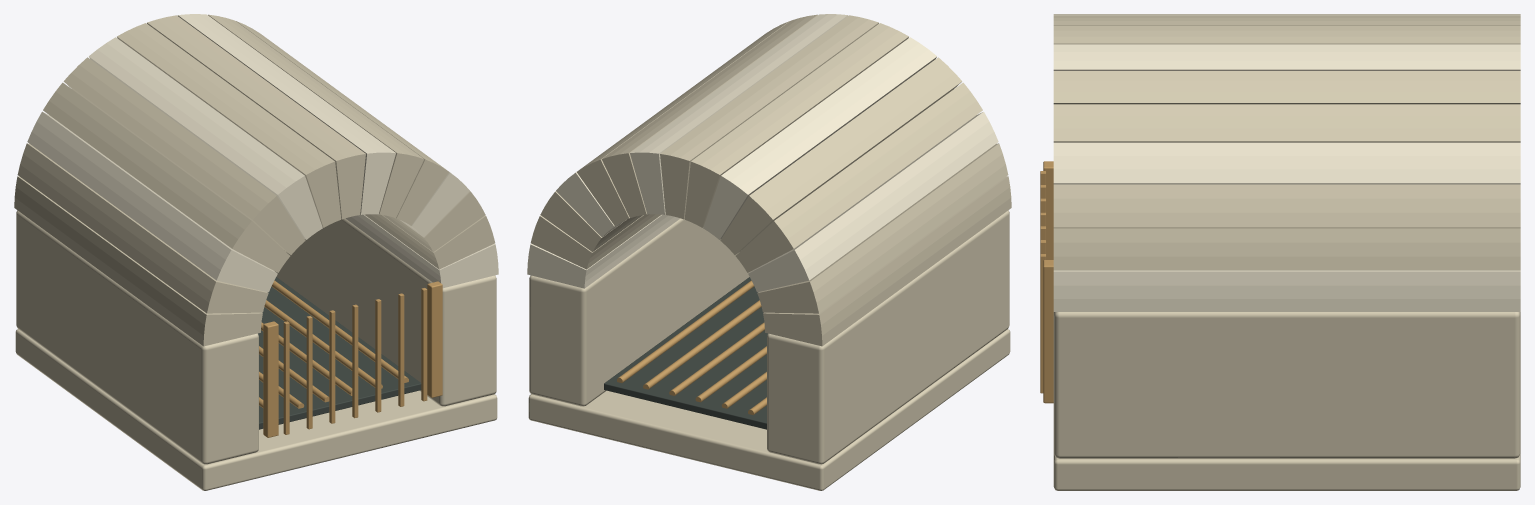
The model's file is fantasy-bathhouse-and-thermal-sanctuary-fantasy-bathho-5886258b__29447.glb.
3 renders of one model, left to right at view 1: azimuth 30°, elevation 25°; view 2: azimuth 150°, elevation 25°; view 3: azimuth 270°, elevation 25°, orthographic. The views are drawn at different scales.
Parts seen in each view (by area): view 1: fantasy-bathhouse-and-thermal-sanctuary-covered-furnace; view 2: fantasy-bathhouse-and-thermal-sanctuary-covered-furnace; view 3: fantasy-bathhouse-and-thermal-sanctuary-covered-furnace.
Part boxes in pixels (x1,y1,x2,y2): fantasy-bathhouse-and-thermal-sanctuary-covered-furnace: [14, 14, 498, 490]; fantasy-bathhouse-and-thermal-sanctuary-covered-furnace: [527, 14, 1011, 490]; fantasy-bathhouse-and-thermal-sanctuary-covered-furnace: [1040, 14, 1520, 490].
Bounding box in the file's own units: 1.8 × 1.75 × 2.06.
